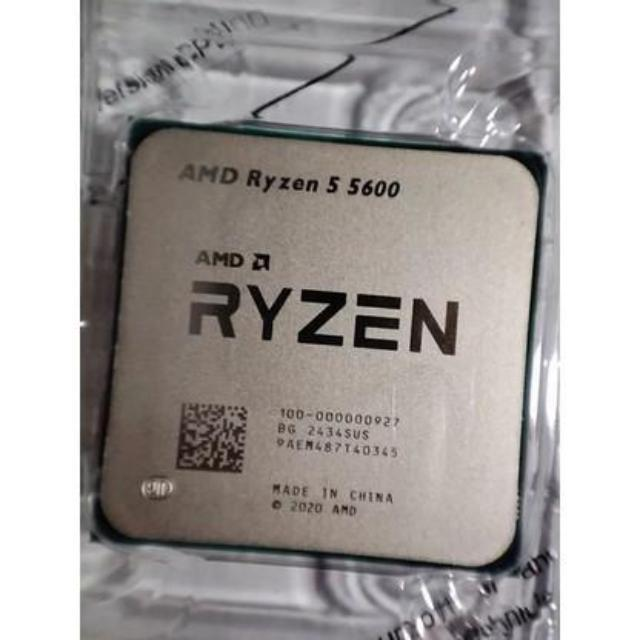CPU: (106, 128, 526, 566)
